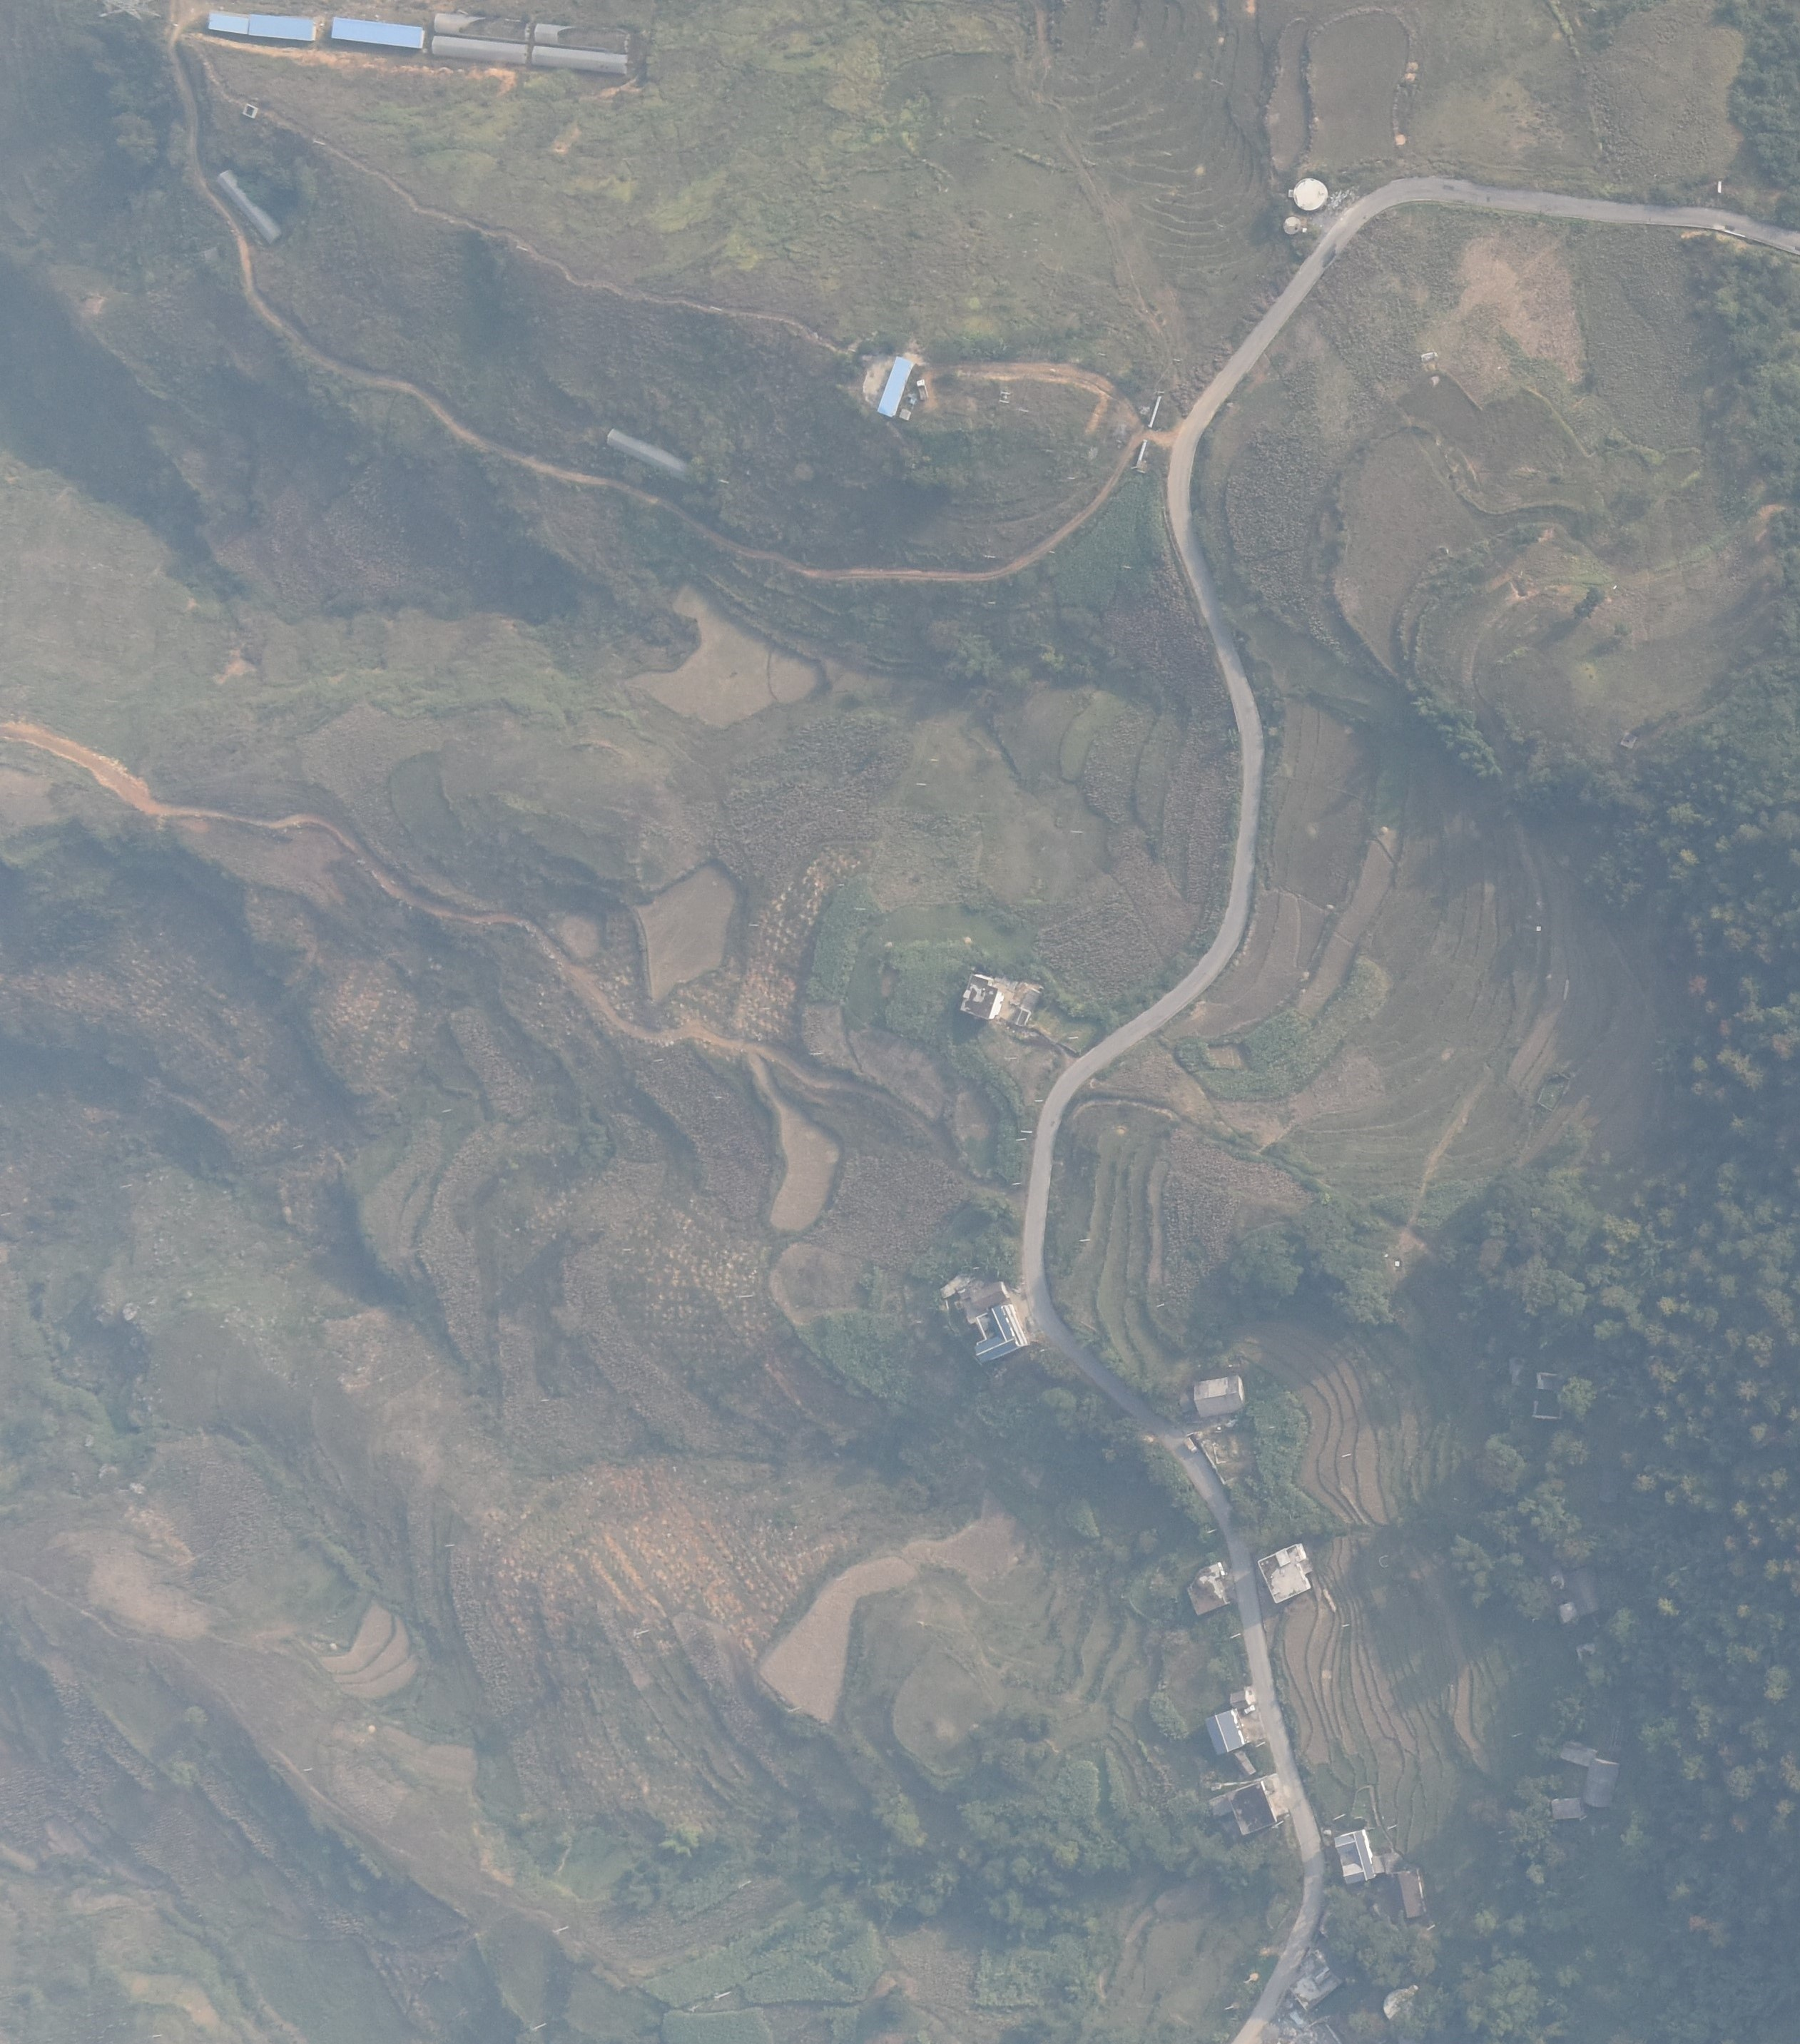building: (601, 424, 695, 489), (215, 163, 281, 245), (527, 14, 645, 59), (427, 5, 530, 49), (965, 1303, 1030, 1368), (1259, 1542, 1313, 1618), (1226, 1779, 1288, 1843), (1186, 1373, 1259, 1425), (529, 43, 635, 78), (427, 31, 528, 68), (956, 967, 1003, 1022), (1186, 1561, 1228, 1620), (1580, 1756, 1622, 1816), (1292, 1960, 1342, 2009), (1335, 1829, 1376, 1886), (1395, 1865, 1433, 1923), (1202, 1709, 1248, 1757), (967, 1282, 1015, 1309), (1558, 1740, 1597, 1772), (1549, 1793, 1588, 1821), (1228, 1749, 1260, 1779), (1226, 1688, 1254, 1709)
prefabricated-house: (873, 346, 919, 424), (328, 16, 424, 53), (243, 9, 317, 45), (200, 8, 251, 40)
vehicle: (912, 376, 935, 406), (1241, 1704, 1259, 1714)
well: (1289, 172, 1329, 215), (1279, 213, 1306, 235)
